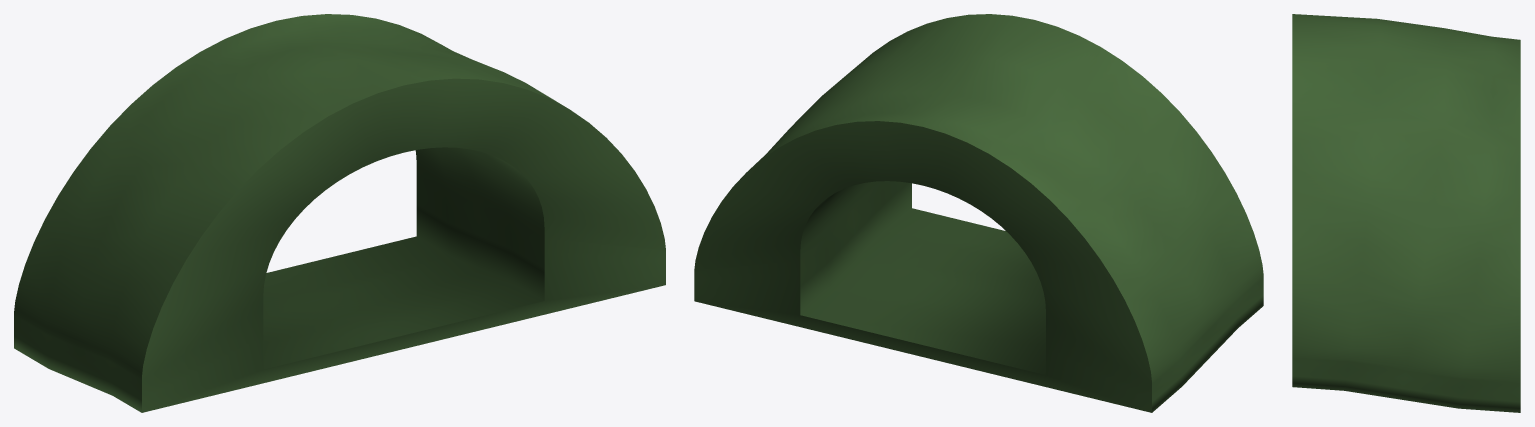
File: grade_down_terrain_lod1.glb
3 views of the same model, side by side, from view 1: azimuth 30°, elevation 25°; view 2: azimuth 150°, elevation 25°; view 3: azimuth 270°, elevation 25° (orthographic). The views are drawn at different scales.
Visible parts, largest first — view 1: TerrainRoof.011; view 2: TerrainRoof.011; view 3: TerrainRoof.011.
Part boxes in pixels (x1,y1,x2,y2): TerrainRoof.011: (14, 14, 665, 412); TerrainRoof.011: (694, 14, 1263, 412); TerrainRoof.011: (1292, 14, 1520, 412).
Size of the model in its own units: 28.4 by 15.15 by 12.
